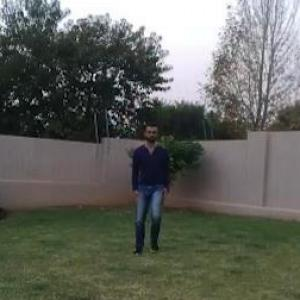follow: (128, 111, 172, 260)
